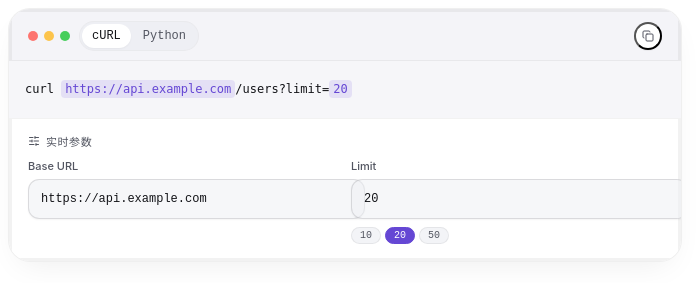
CodeSnippetDeck › 支持点击参数快捷预设项更新代码
Click the button "50". click: (434, 236)
box: [419,227,449,244]
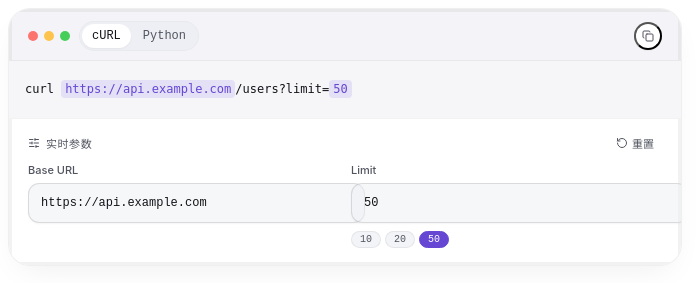
Result: the element with test id "snippet-code" reads "curl https://api.example.com/users?limit=50" at [25,80,352,98]
